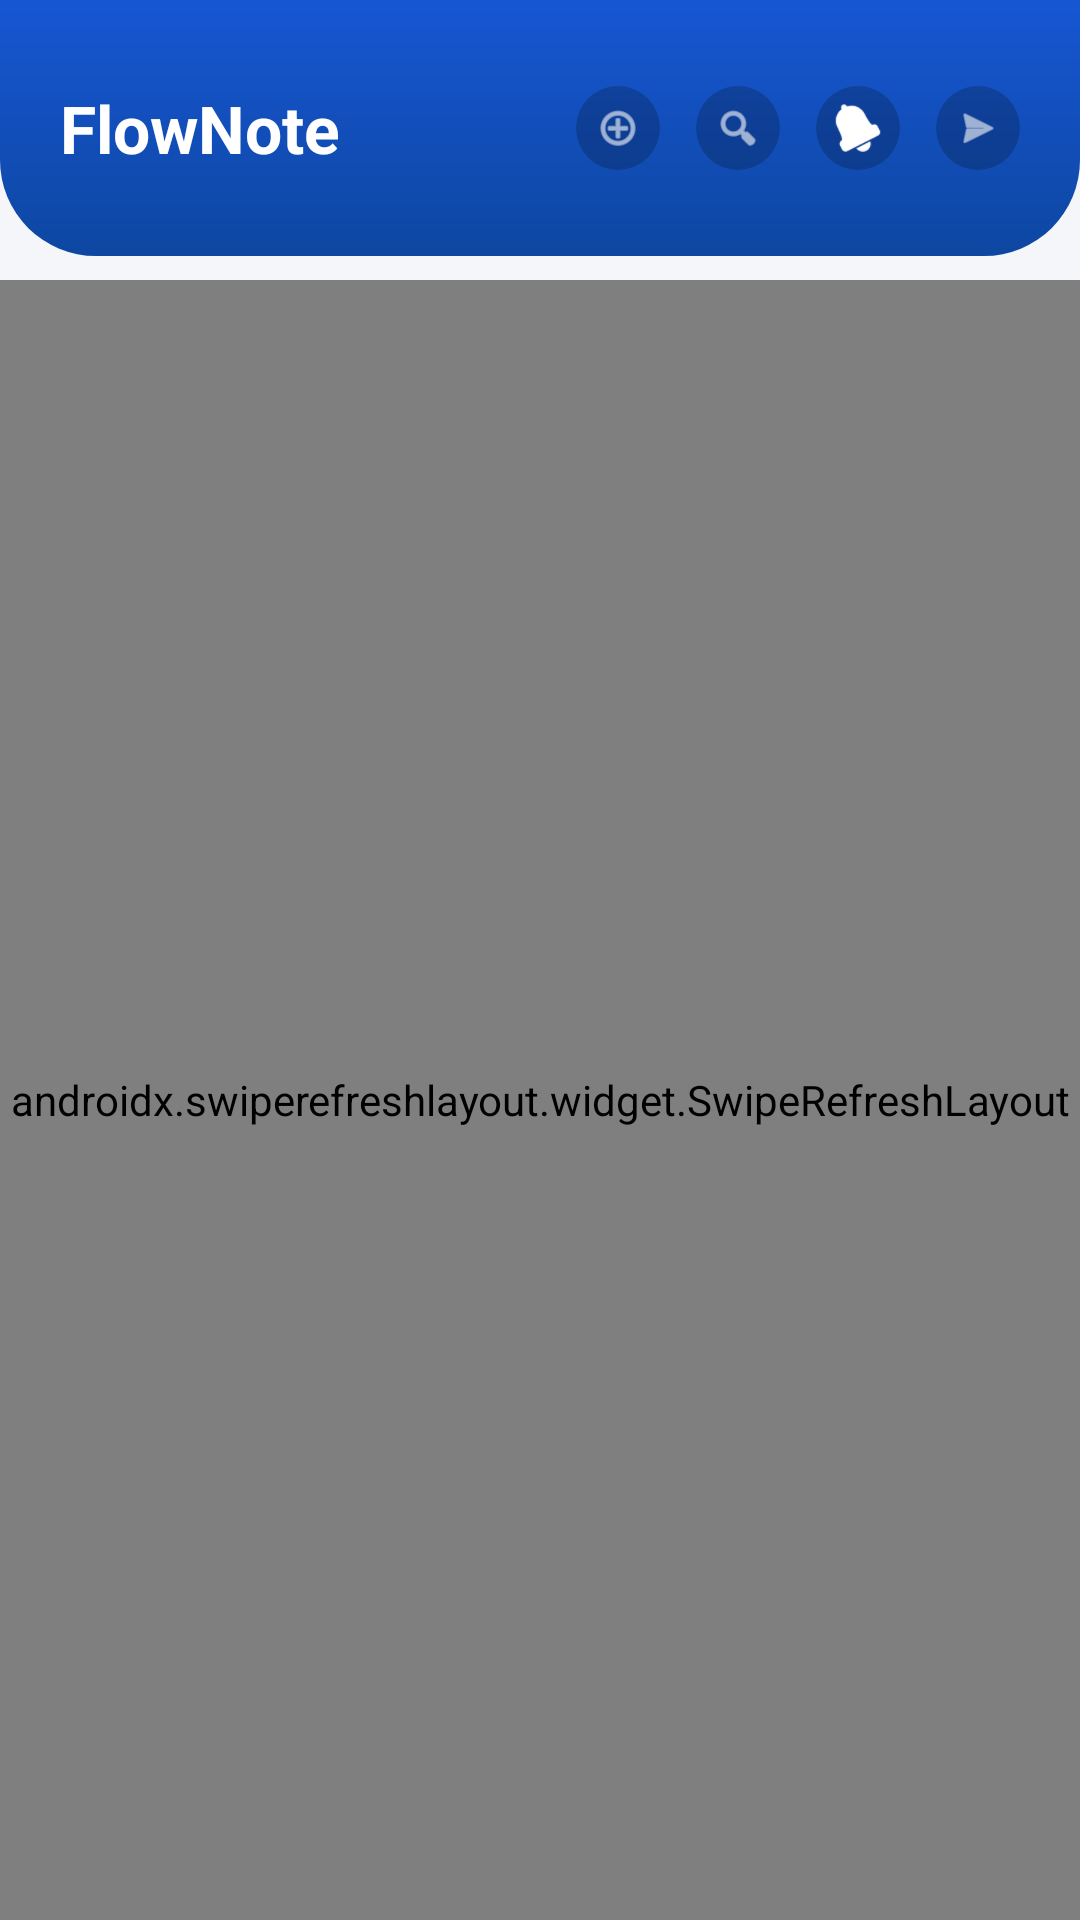

Locate icon controls on the screen. Image size 1080px×1920px, boxes as (x1, y1, x2, y2).
add: (576, 87, 660, 170)
Bildirimler: (816, 87, 900, 170)
search: (696, 87, 780, 170)
send: (936, 87, 1020, 170)
